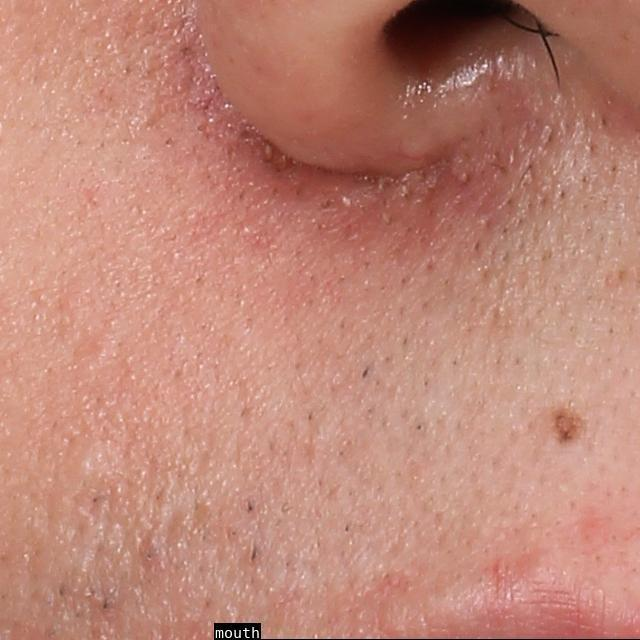comedo: (75, 453, 106, 481)
nevus: (551, 406, 586, 447)
